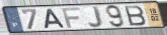7: (20, 8, 39, 31)
9: (105, 4, 126, 29)
A: (43, 8, 67, 30)
B: (123, 5, 148, 27)
F: (61, 7, 82, 29)
J: (87, 5, 104, 29)
